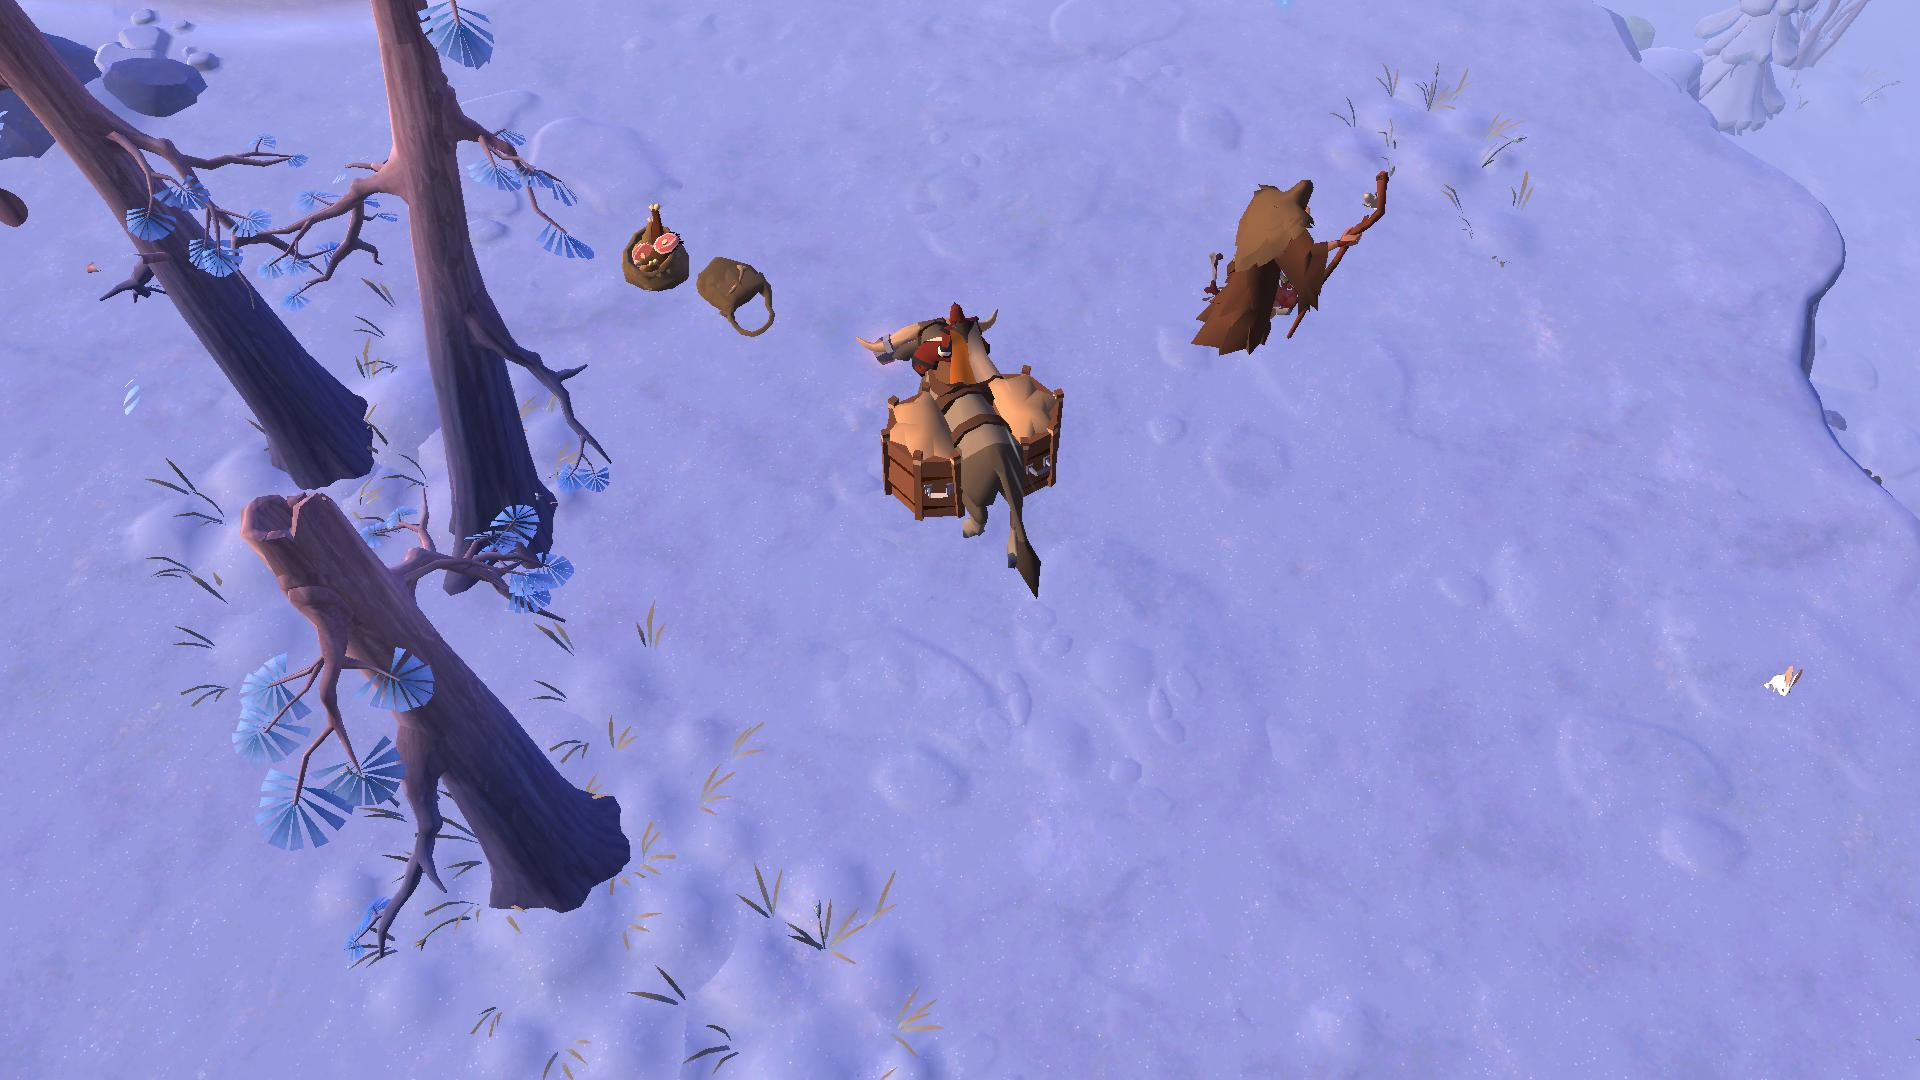enemy_factionKeeper: (1188, 161, 1389, 353)
